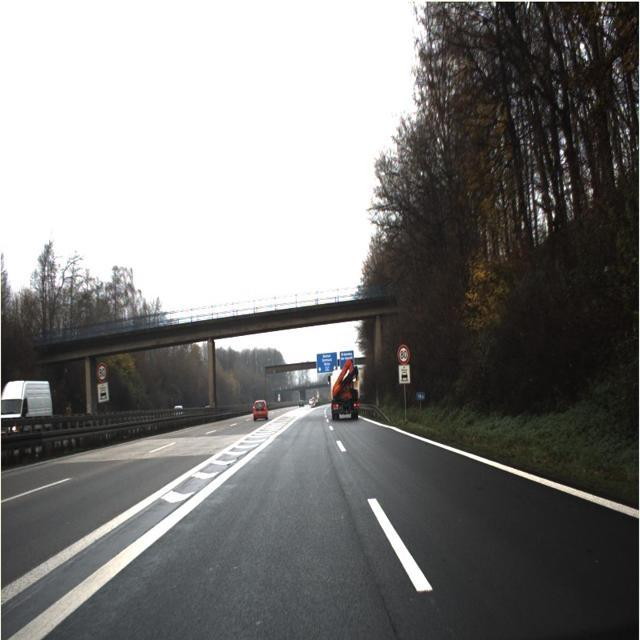forb_speed_over_80: (397, 343, 410, 365), (96, 362, 108, 384)
